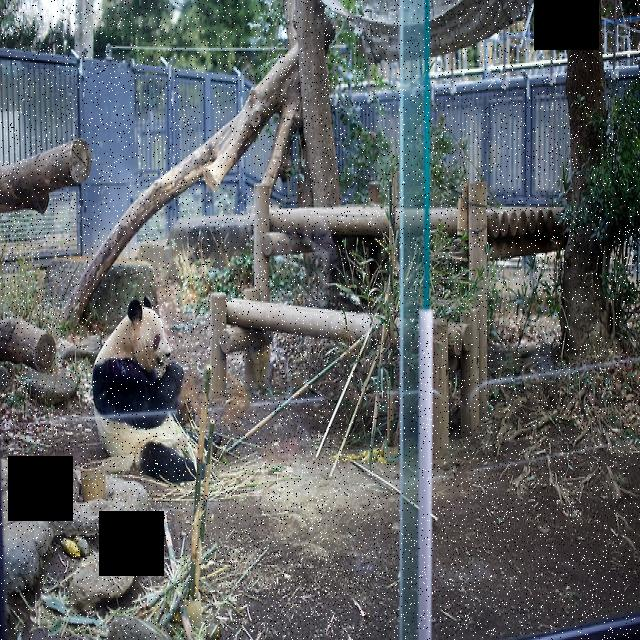Bear: (82, 292, 223, 468)
